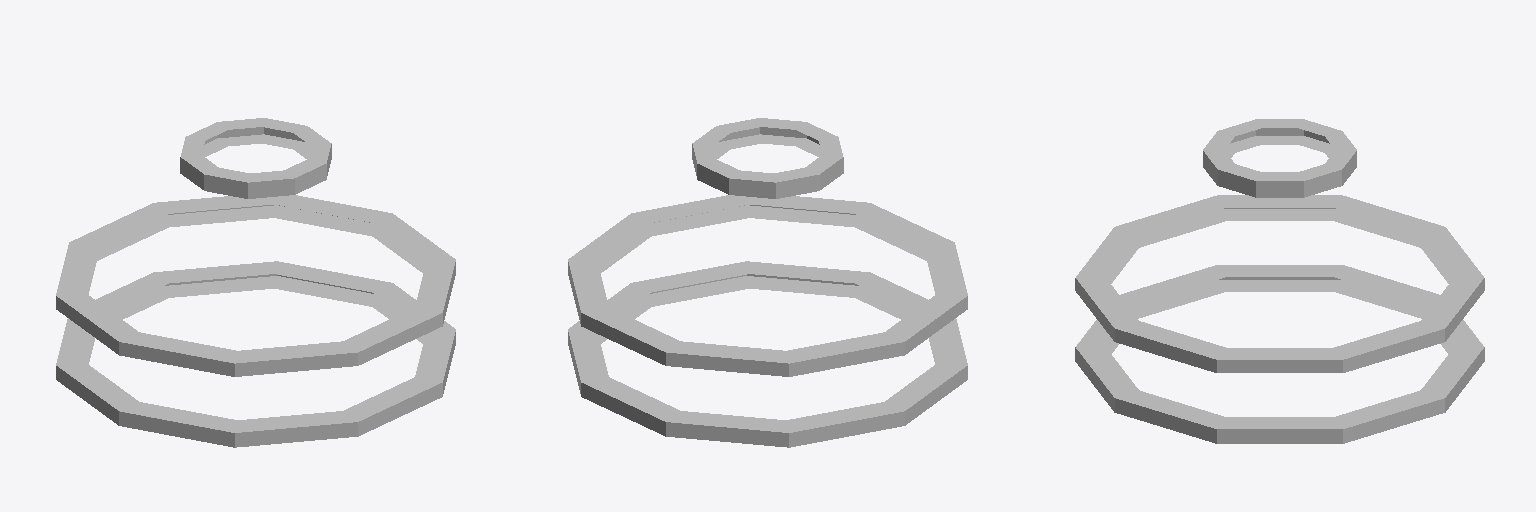
The model's file is Hydrant Rims.obj.
3 renders of one model, left to right at view 1: azimuth 30°, elevation 25°; view 2: azimuth 150°, elevation 25°; view 3: azimuth 270°, elevation 25°, orthographic.
Visible parts, largest first — view 1: Yellow_Accents_Cylinder.006; view 2: Yellow_Accents_Cylinder.006; view 3: Yellow_Accents_Cylinder.006.
Boxes of the visible parts, <box> form: Yellow_Accents_Cylinder.006: <box>56,118,455,447</box>; Yellow_Accents_Cylinder.006: <box>568,118,967,447</box>; Yellow_Accents_Cylinder.006: <box>1075,119,1484,443</box>.
Size of the model in its own units: 2.24 by 1.34 by 2.35.